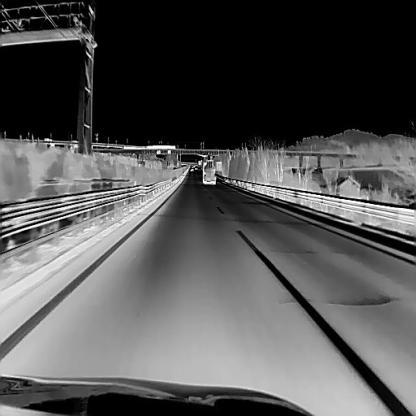car: (201, 161, 216, 184)
